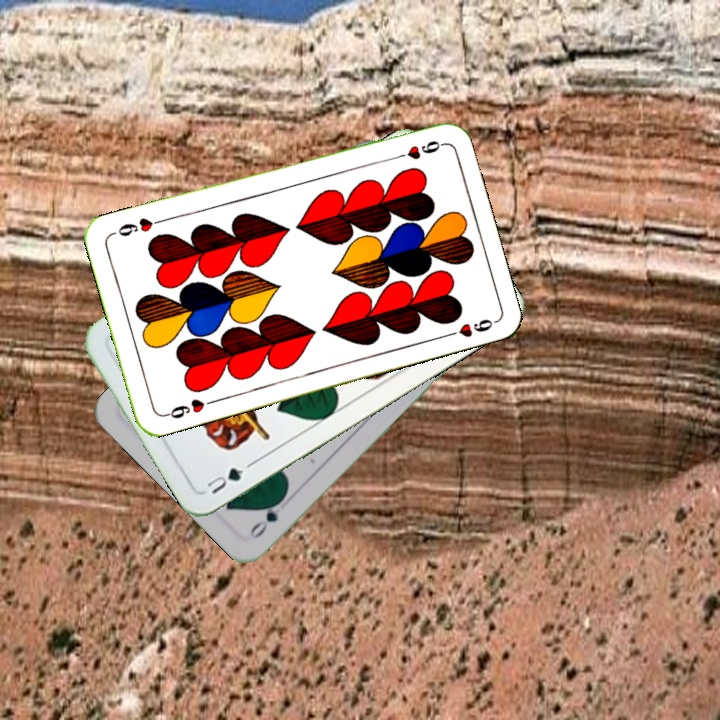GO: (246, 492, 288, 541)
GU: (202, 459, 254, 497)
H9: (159, 394, 217, 421), (388, 136, 446, 163)
